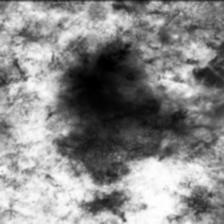Potentially Malignant Skin Tumors: (50, 40, 188, 175)
